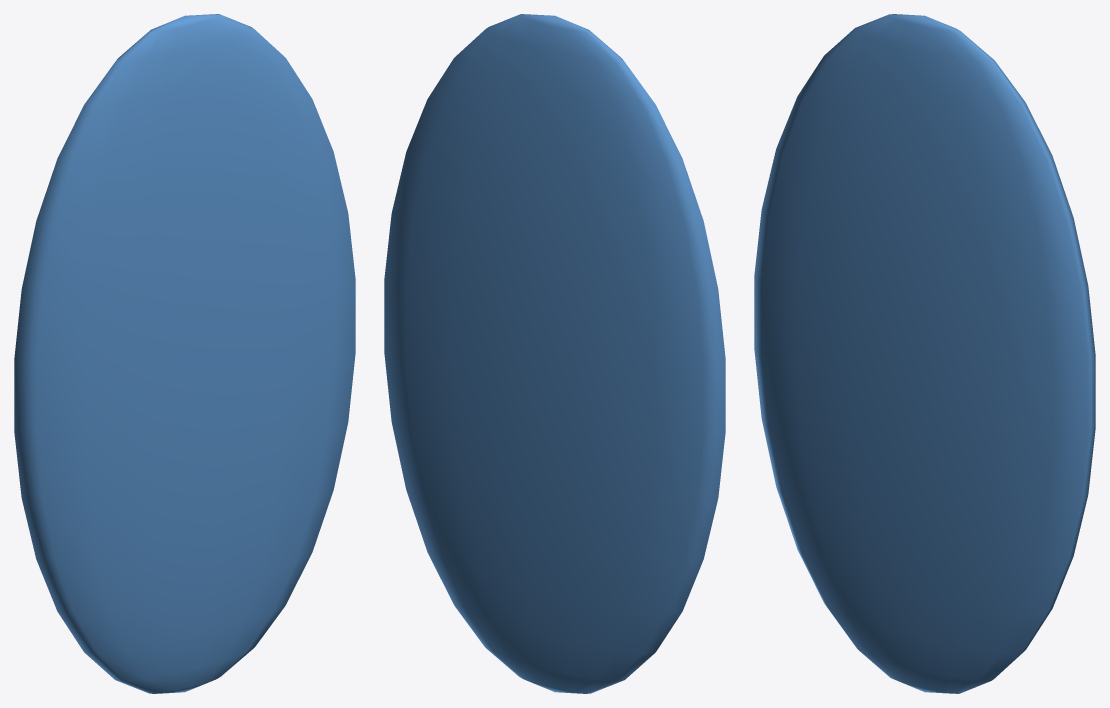
File: Portal.fbx
3 renders of one model, left to right at view 1: azimuth 30°, elevation 25°; view 2: azimuth 150°, elevation 25°; view 3: azimuth 330°, elevation 25°, orthographic.
Parts seen in each view (by area): view 1: Portal; view 2: Portal; view 3: Portal.
Boxes of the visible parts, x1,y1,x2,y2 form: Portal: [14, 14, 355, 693]; Portal: [384, 14, 725, 693]; Portal: [754, 14, 1095, 693].
Size of the model in its own units: 1.98 by 3.79 by 0.3756.
